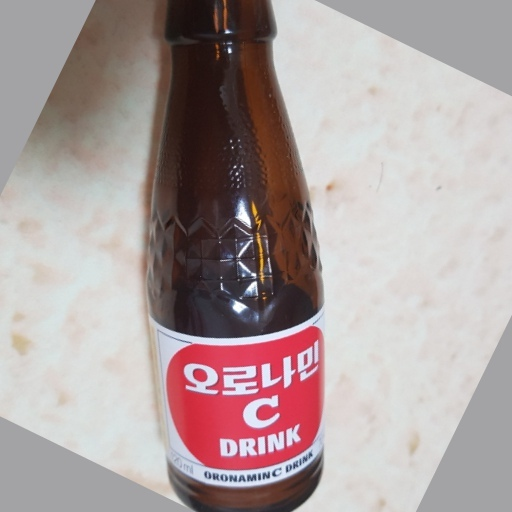Glass_3: (146, 1, 332, 512)
